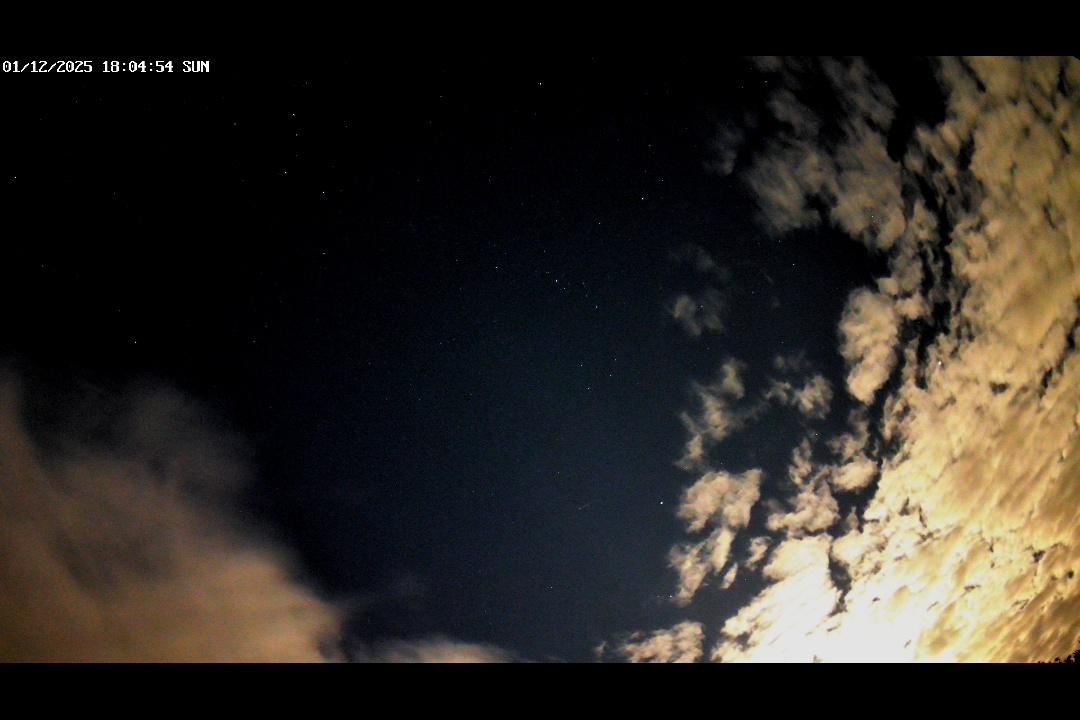Plane: (573, 496, 605, 514)
